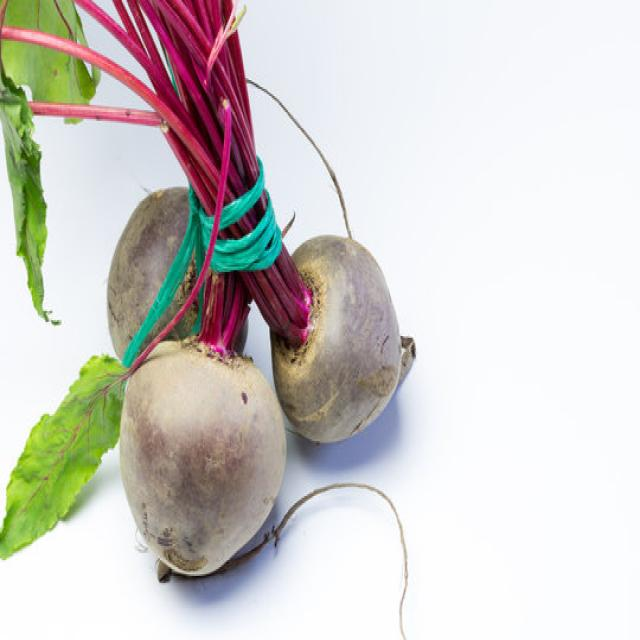Beetroot: (125, 334, 284, 578), (269, 231, 416, 445), (101, 176, 236, 371)
